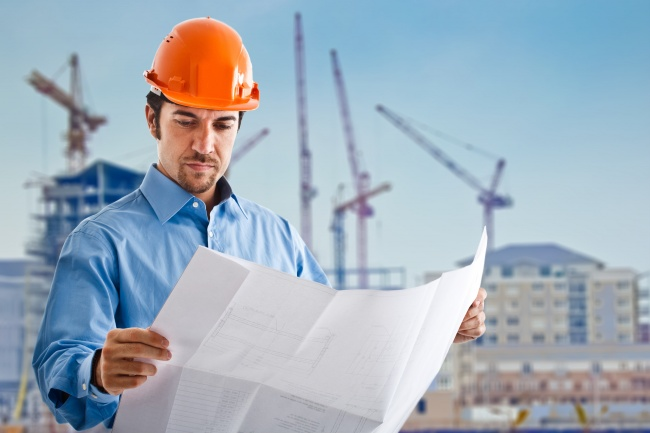safetyhat: (62, 8, 498, 428)
